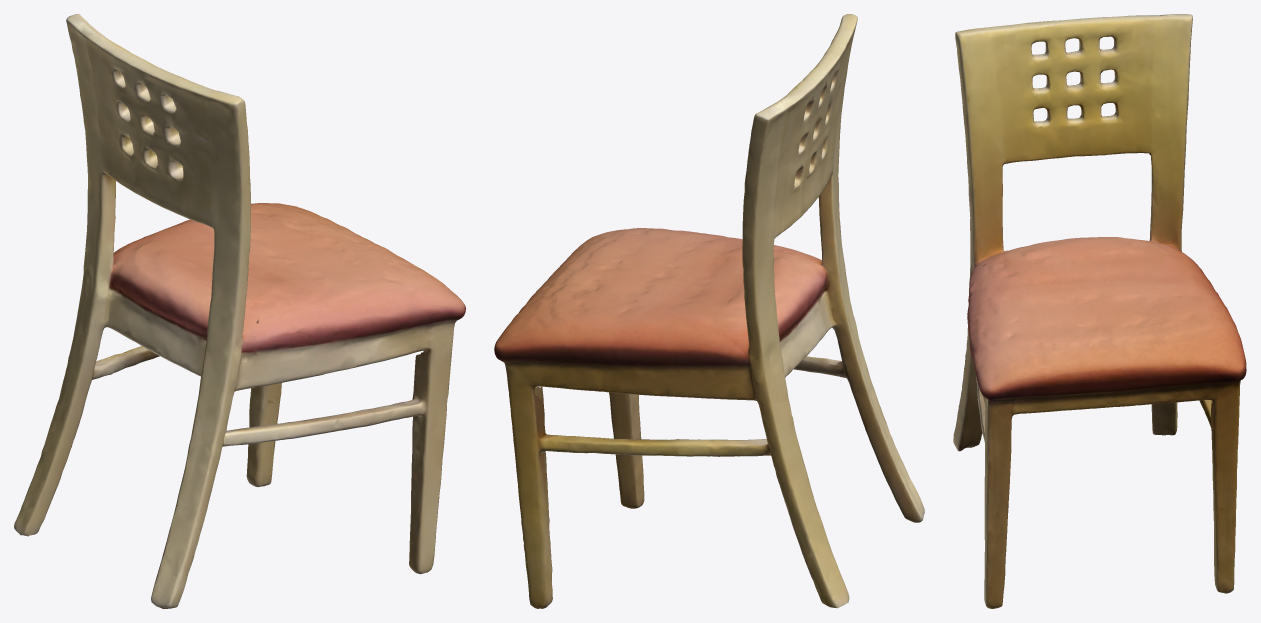
File: chair.glb
3 views of the same model, side by side, from view 1: azimuth 30°, elevation 25°; view 2: azimuth 150°, elevation 25°; view 3: azimuth 270°, elevation 25° (orthographic). The views are drawn at different scales.
Bounding box in the file's own units: 1.33 × 1.93 × 1.05.
6 materials, 6 textured.
